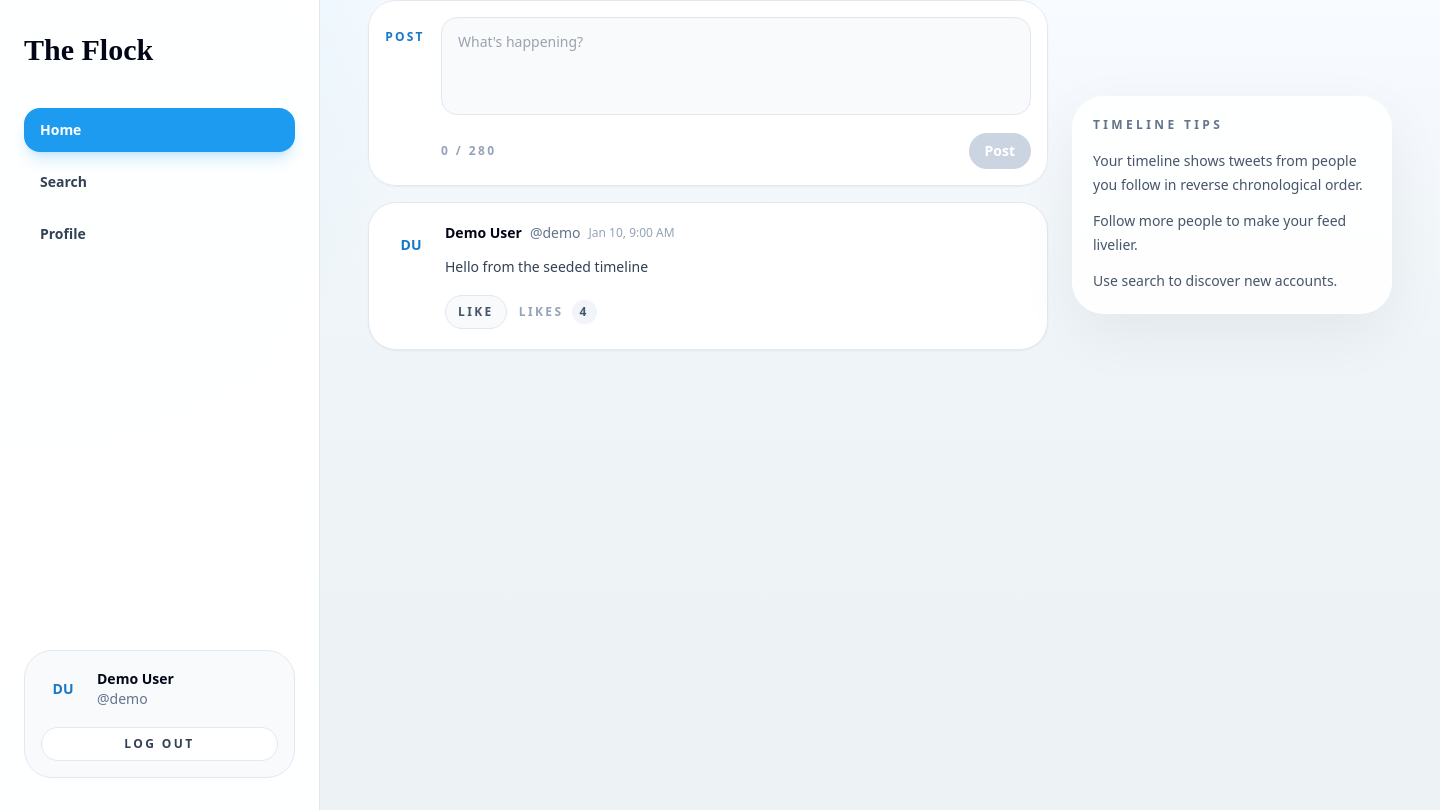
Test case: Timeline page › updates the count when liking a tweet
The image size is (1440, 810).
Click the button "Like": (476, 312) [445,295,507,329]
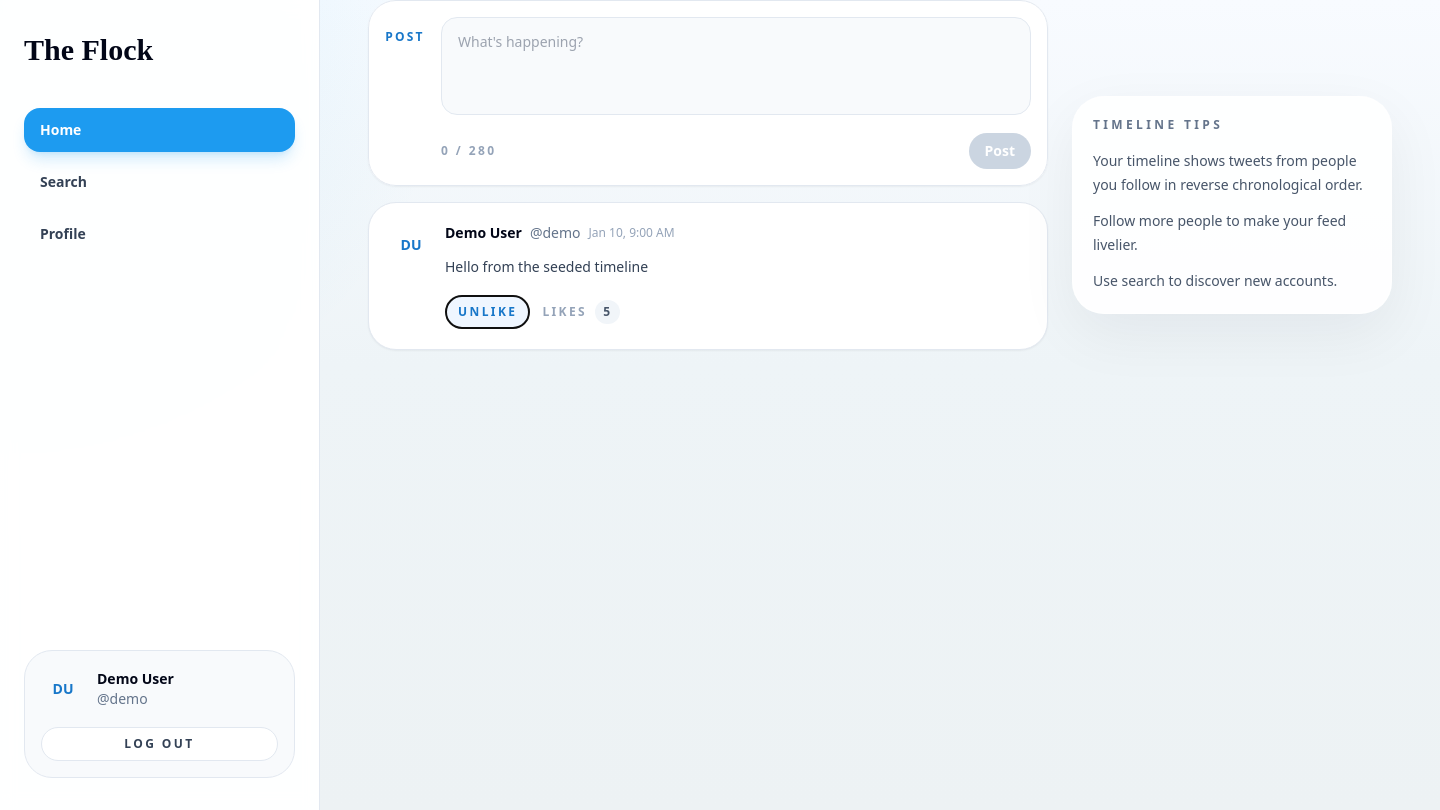
expect the button "Unlike" is shown: met, box [445,295,530,329]
expect the text "5" is shown: met, box [595,300,620,324]
